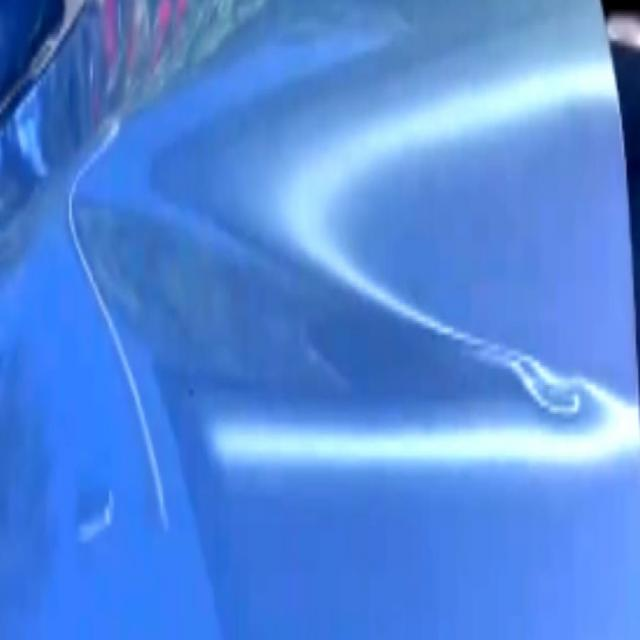dents: (79, 473, 127, 570)
